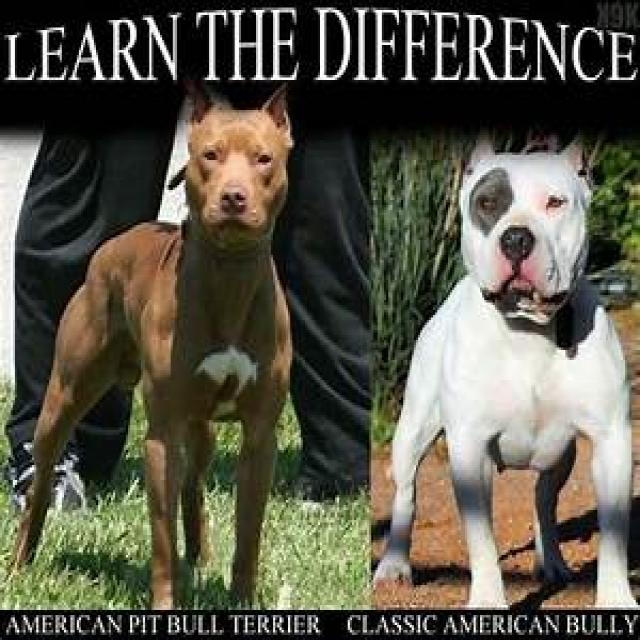dog: (8, 75, 294, 610), (369, 122, 638, 610)
